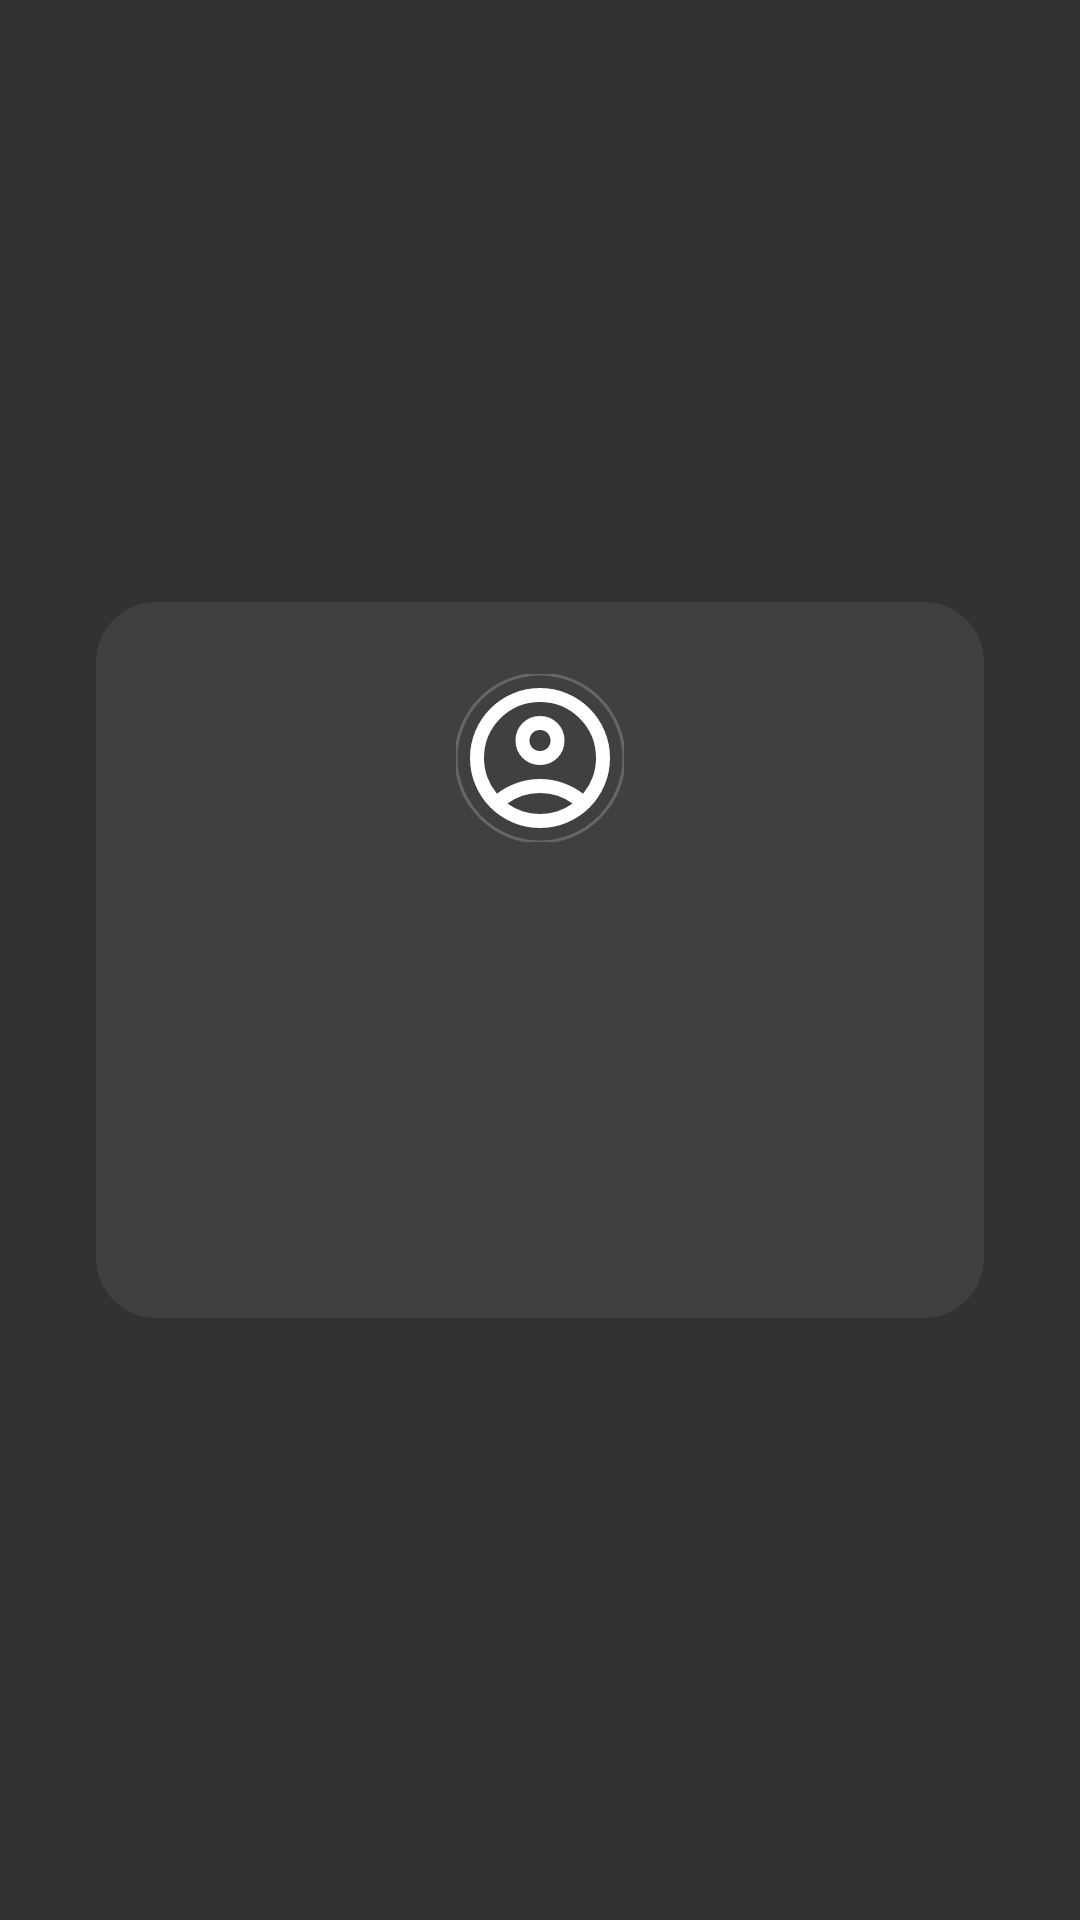

Screen size 1080 × 1920. Icon name, then its box in pixels as bbox(x1, y1, x2, y2):
circle profile: bbox(456, 674, 624, 842)
